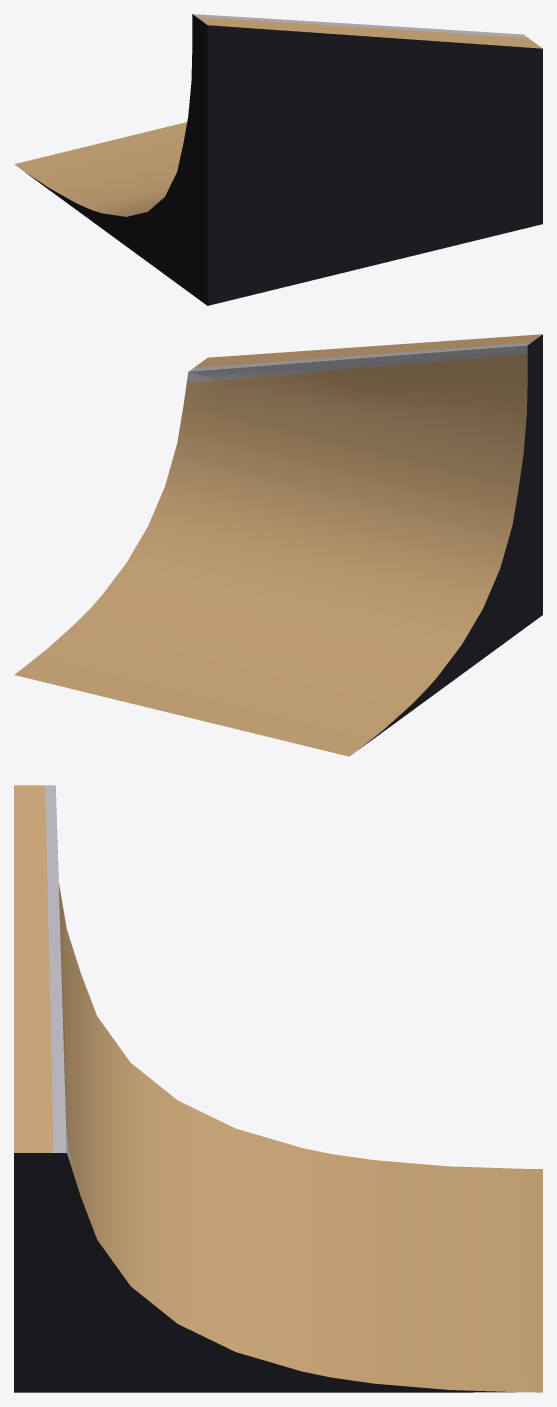
Rendered from Quater_SML_HighVert_LR.fbx.
3 renders of one model, top to bottom at view 1: azimuth 30°, elevation 25°; view 2: azimuth 150°, elevation 25°; view 3: azimuth 270°, elevation 25°, orthographic. The views are drawn at different scales.
Parts seen in each view (by area): view 1: Quater_SML_HighVert_LR; view 2: Quater_SML_HighVert_LR; view 3: Quater_SML_HighVert_LR.
Part boxes in pixels (x1,y1,x2,y2): Quater_SML_HighVert_LR: [14, 14, 542, 305]; Quater_SML_HighVert_LR: [14, 334, 542, 756]; Quater_SML_HighVert_LR: [14, 785, 542, 1392].
Bounding box in the file's own units: 10 × 8 × 10.
